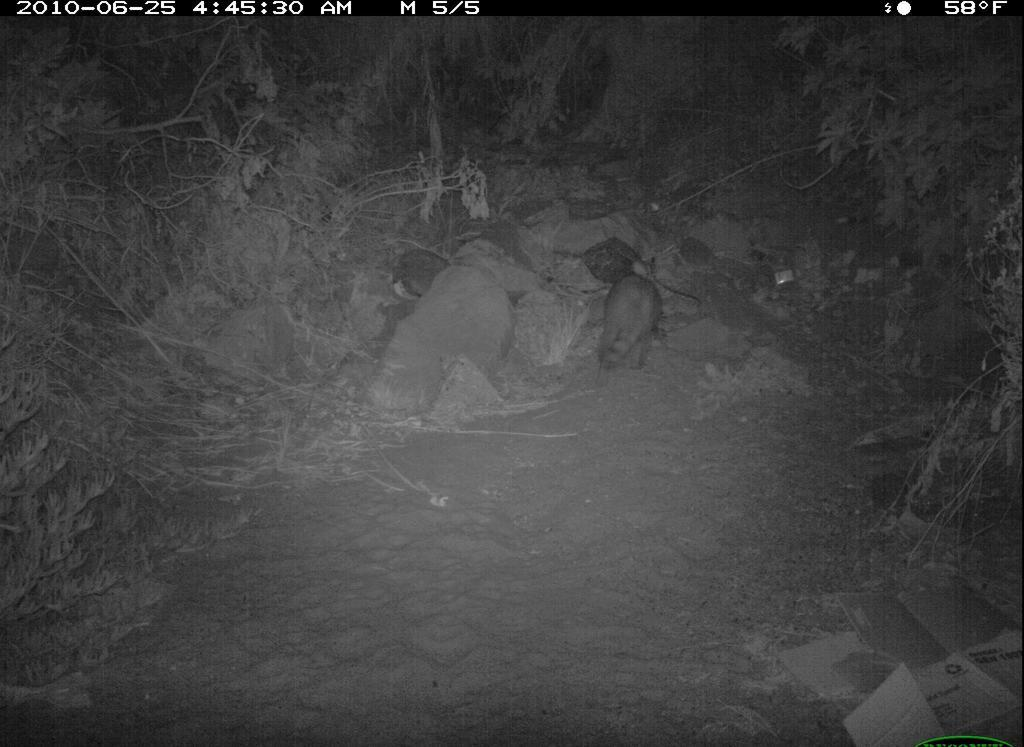raccoon: (597, 272, 665, 394)
